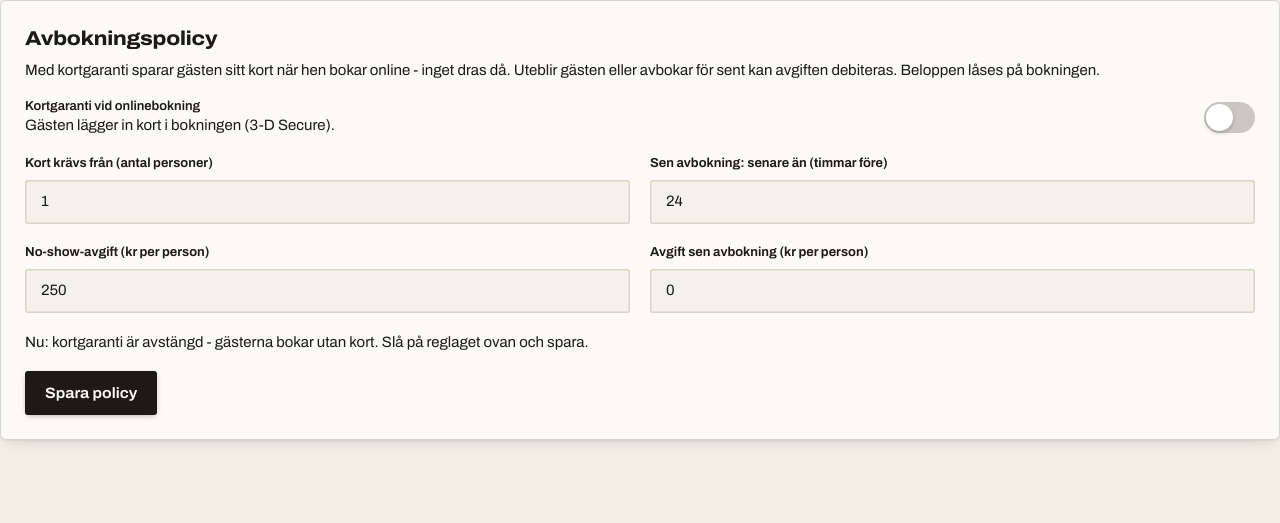
it: CancellationPolicyCard › refuses an enabled policy without any fee
Click the switch named "Kortgaranti vid onlinebokning".
click(1230, 117)  # box left=1204, top=102, right=1255, bottom=133
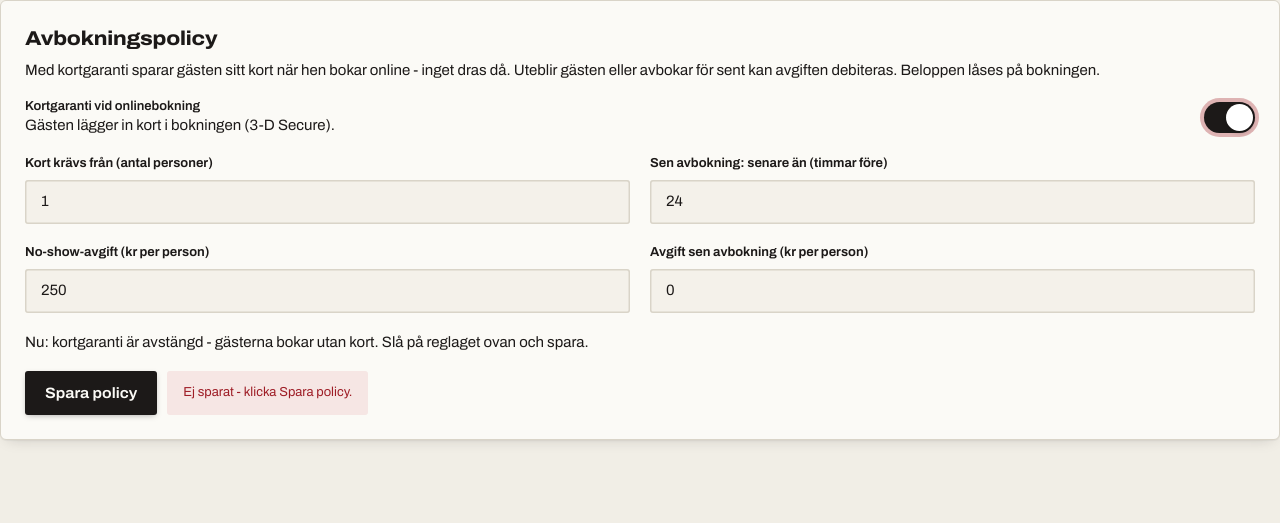
Replace the text in the field labelled "No-show-avgift (kr per person)" with "0" at (328, 291), box left=25, top=269, right=630, bottom=313
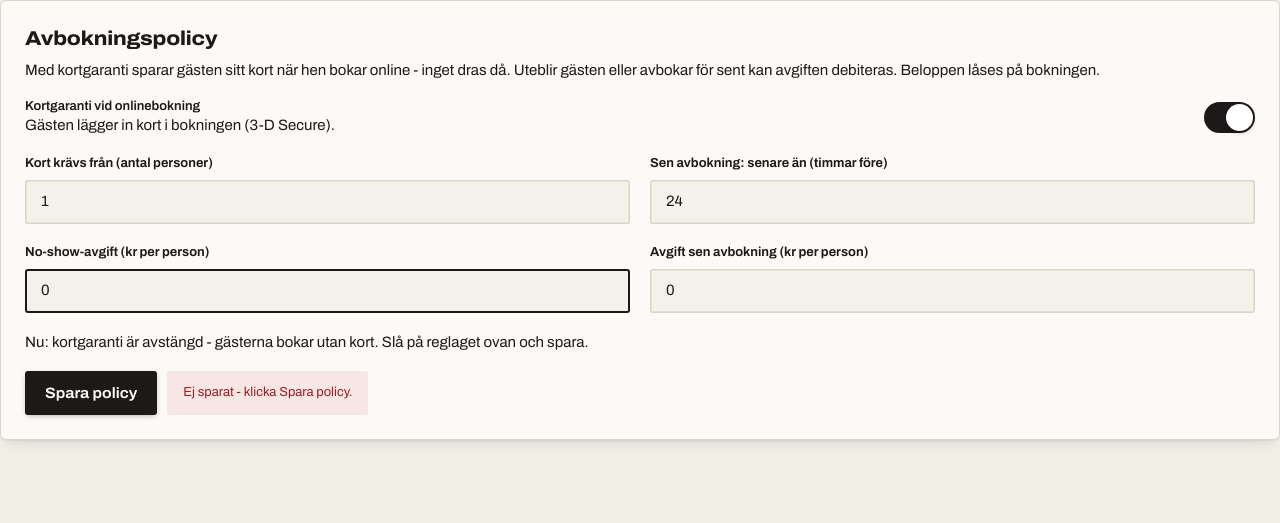
Click the button "Spara policy".
click(91, 393)  # box left=25, top=371, right=157, bottom=415
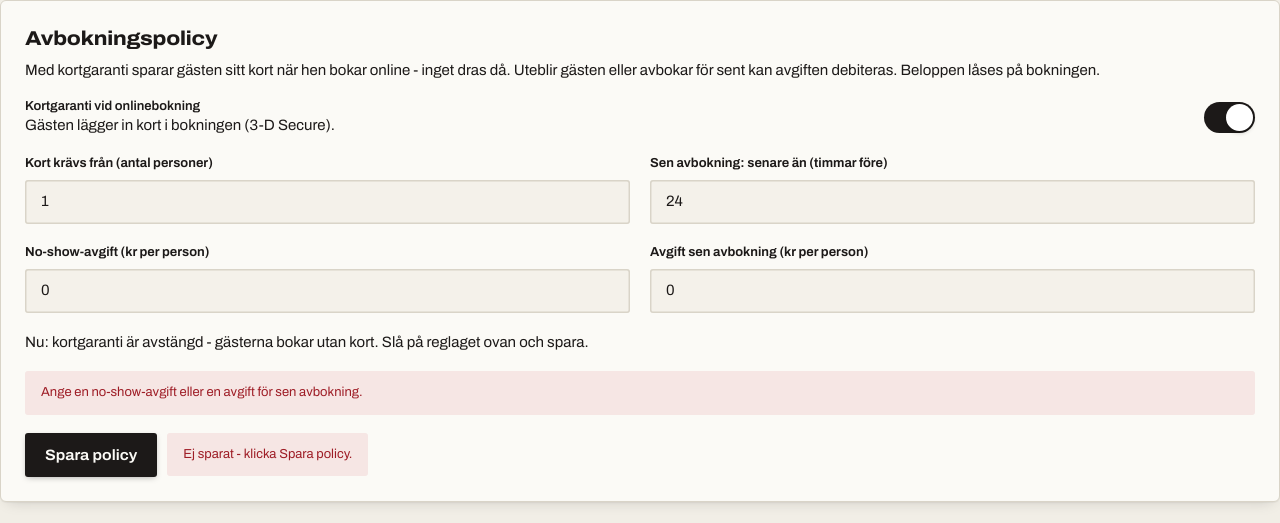
Check: the message "Ange en no-show-avgift eller en avgift för sen avbokning." is shown, box left=25, top=371, right=1255, bottom=415
